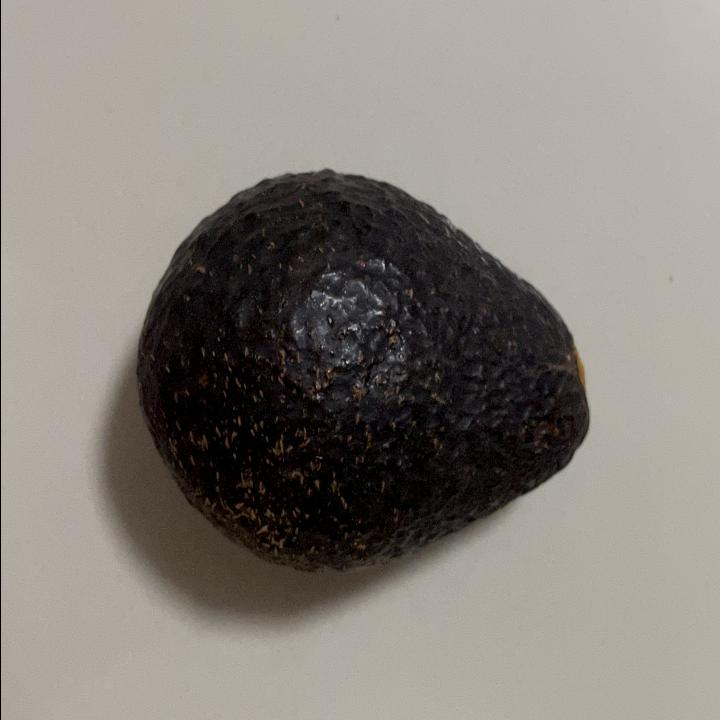Level3: (126, 156, 604, 584)
